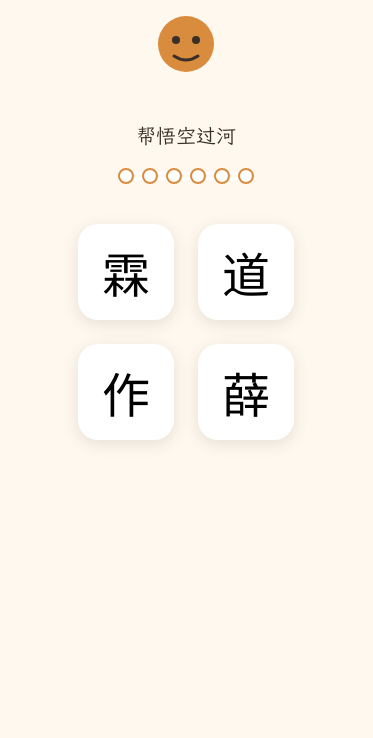
Test case: BoutScreen (assessment spec: 'No visible scoring or failure state', 'Narrative framing', 'Bounded session length') › walks a full 2-item bout with no score ever shown, and reaches the closing beat
Press the mouse on the button "霖": (126,272) [78,224,174,320]
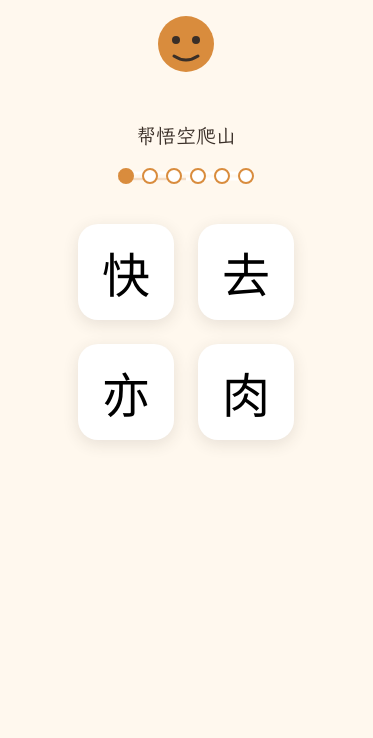
Press the mouse on the button "快": (126,272) [78,224,174,320]
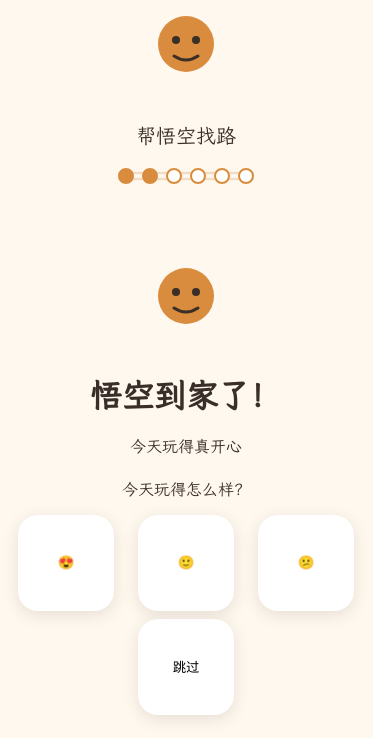
Check: the heading "悟空到家了！" is shown, box [90,377,282,415]
